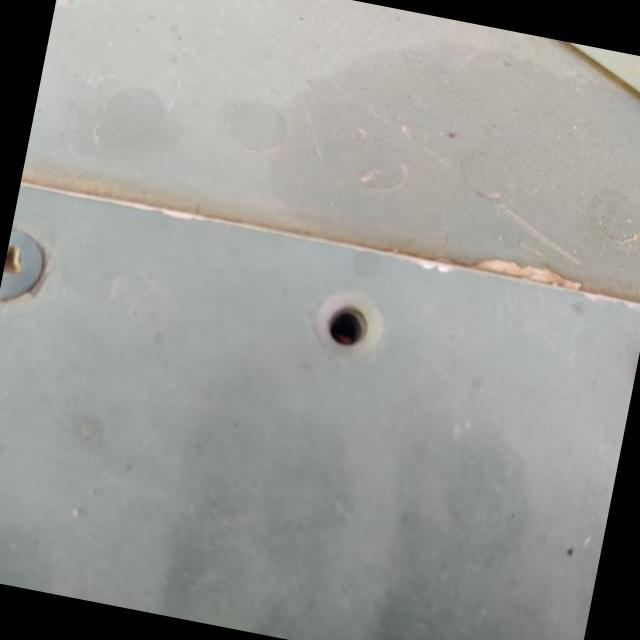Fastener Damage: (266, 254, 422, 405)
